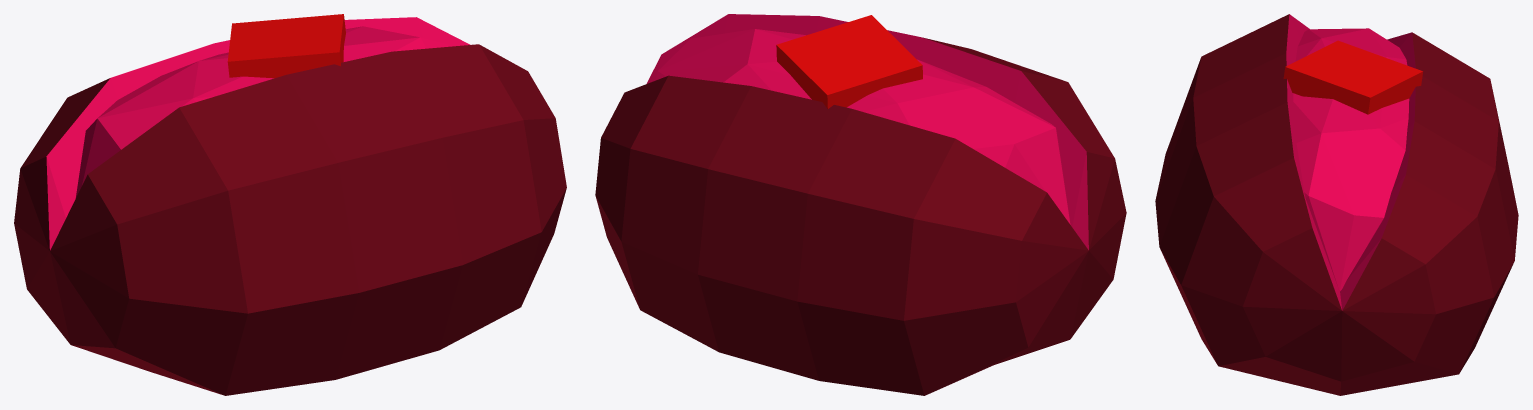
The model's file is Potato_01.fbx.
3 renders of one model, left to right at view 1: azimuth 30°, elevation 25°; view 2: azimuth 150°, elevation 25°; view 3: azimuth 270°, elevation 25°, orthographic. The views are drawn at different scales.
Visible parts, largest first — view 1: Potato_01; view 2: Potato_01; view 3: Potato_01.
Part boxes in pixels (left/top/right/bottom): Potato_01: left=14, top=14, right=566, bottom=395; Potato_01: left=595, top=14, right=1126, bottom=395; Potato_01: left=1155, top=14, right=1518, bottom=395.
Size of the model in its own units: 8.65 by 5.22 by 6.2.
